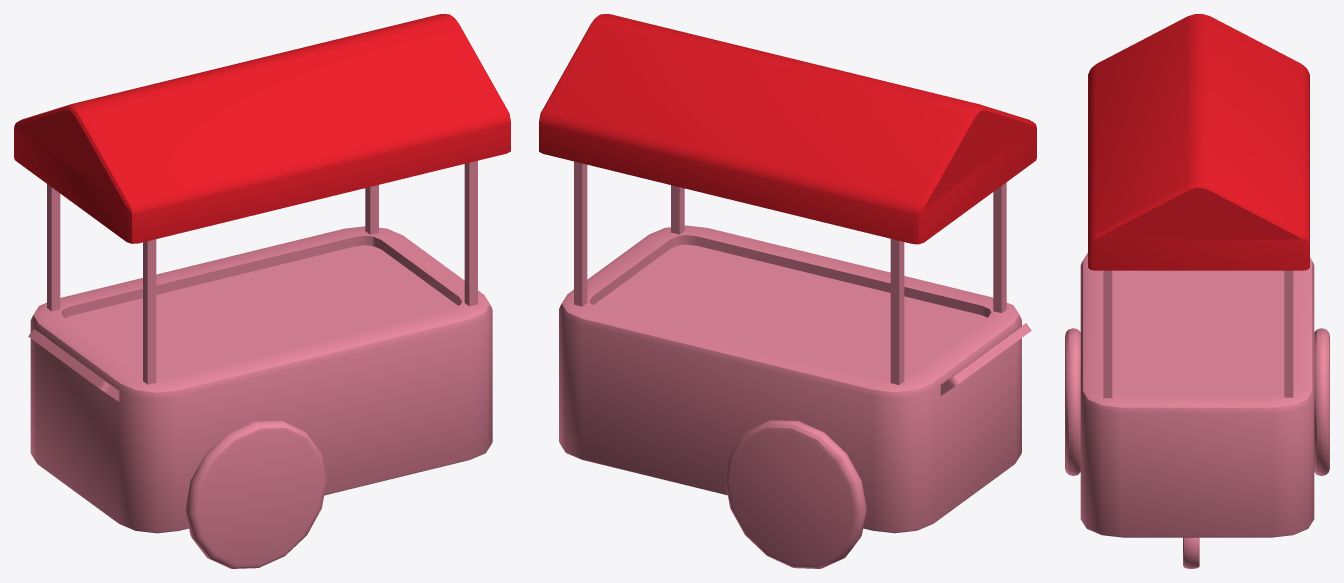
File: SM_HotDogCart.fbx
The picture shows the model from 3 angles, left to right: view 1: azimuth 30°, elevation 25°; view 2: azimuth 150°, elevation 25°; view 3: azimuth 270°, elevation 25°; orthographic projection. The views are drawn at different scales.
Visible parts, largest first — view 1: Cube.031; view 2: Cube.031; view 3: Cube.031.
Part boxes in pixels (left/top/right/bottom): Cube.031: left=14, top=14, right=510, bottom=568; Cube.031: left=539, top=14, right=1036, bottom=568; Cube.031: left=1065, top=14, right=1329, bottom=568.
Size of the model in its own units: 270 by 287 by 170.
